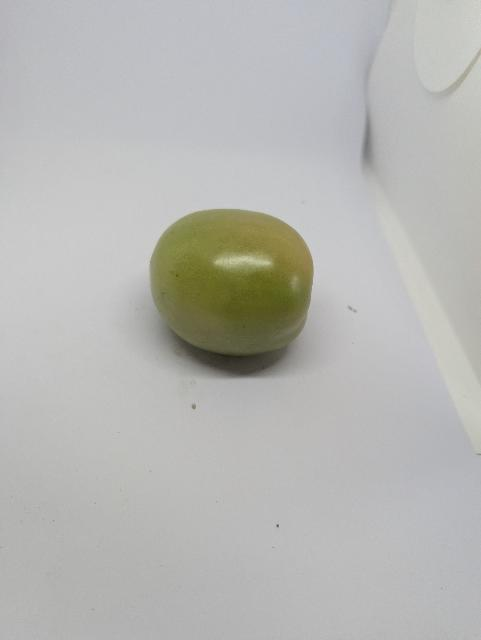green: (141, 205, 318, 362)
